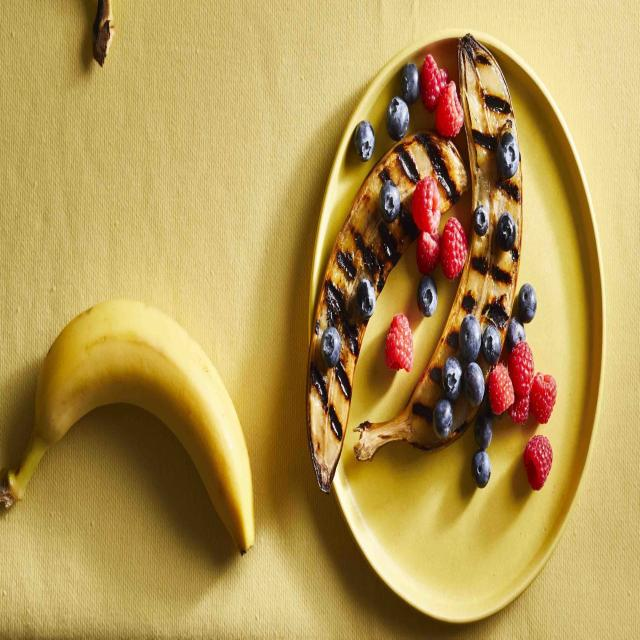Banana: (8, 300, 254, 553)
